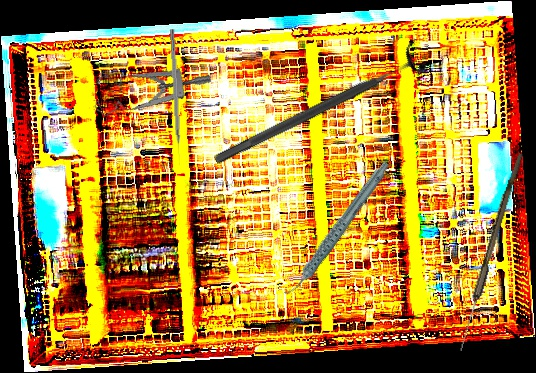Fixation Ring: (207, 39, 429, 177)
Handpiece: (259, 159, 413, 298)
Hook Surgical: (168, 28, 183, 166)
Speculum: (87, 48, 214, 139)
Surgical Spoon: (456, 151, 524, 353)
